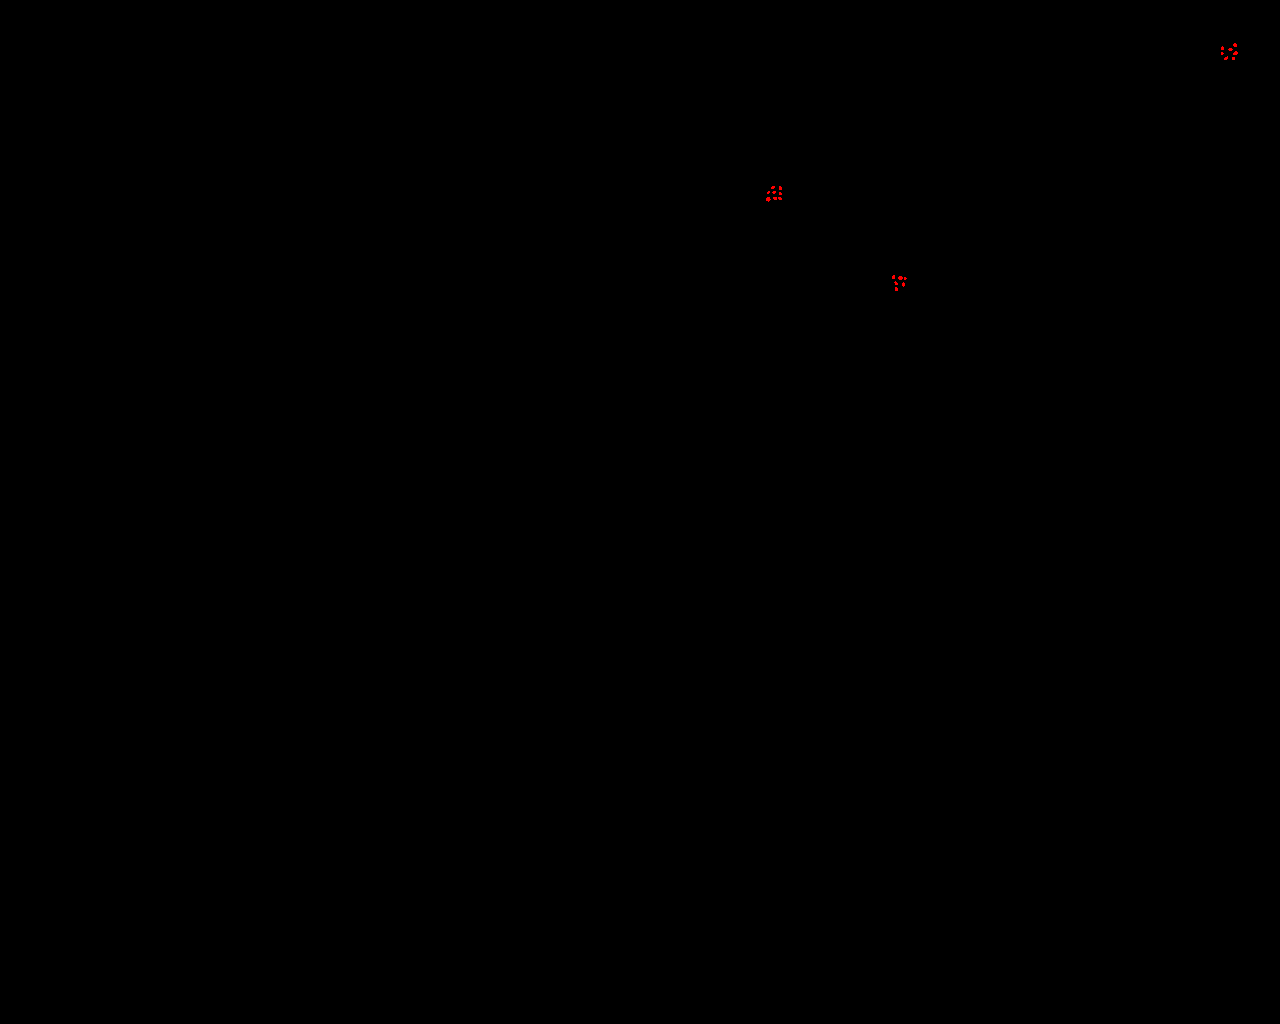Target: (1233, 51, 1238, 55), (766, 197, 771, 202), (898, 276, 903, 280), (1233, 43, 1237, 47), (1228, 48, 1233, 51), (902, 282, 905, 287), (1224, 56, 1228, 60), (771, 186, 775, 189), (772, 191, 776, 194), (892, 275, 895, 279), (894, 281, 898, 285), (767, 191, 770, 194), (904, 277, 907, 280), (1221, 46, 1224, 50), (779, 186, 782, 190), (773, 197, 777, 200), (1221, 52, 1224, 55), (1232, 57, 1235, 60), (779, 192, 782, 195), (778, 197, 782, 200), (895, 287, 898, 290)
